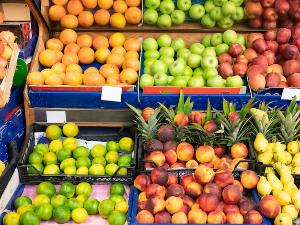apple: (142, 36, 242, 88), (246, 31, 300, 84)
lime: (19, 120, 134, 179), (0, 180, 131, 225)
orange: (29, 36, 143, 84)
peach: (133, 151, 271, 225)
pear: (252, 121, 300, 225)
